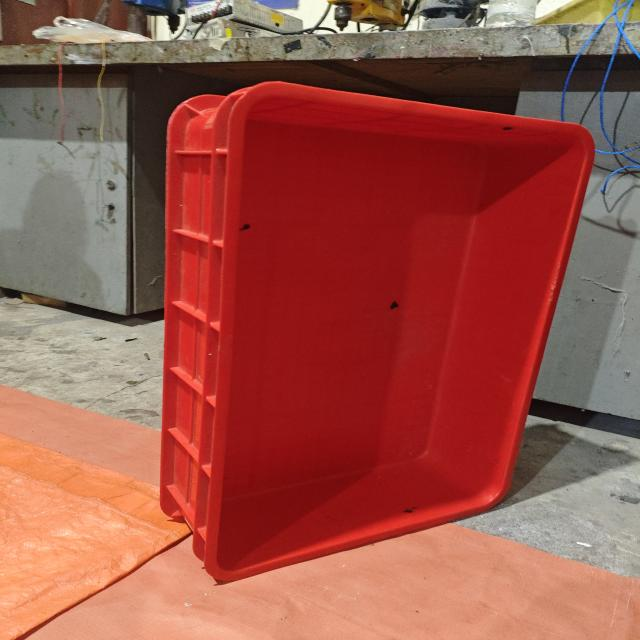red plastic box: (159, 80, 596, 582)
